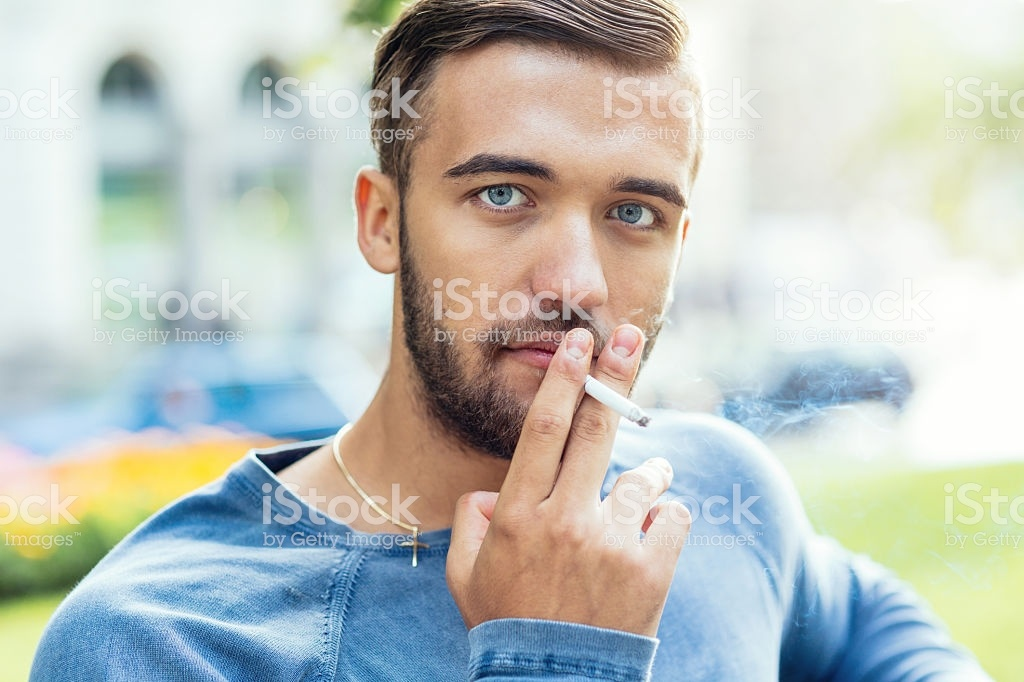sigaretta: (577, 376, 656, 426)
